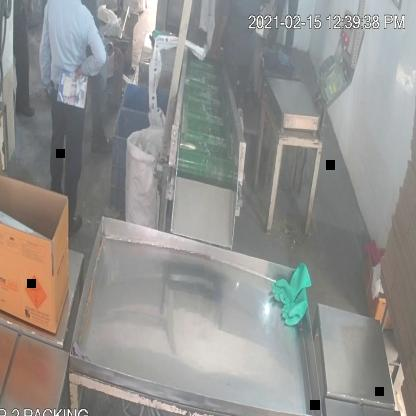glove: (267, 261, 315, 333)
no_glove: (74, 9, 106, 93), (209, 9, 230, 59)
